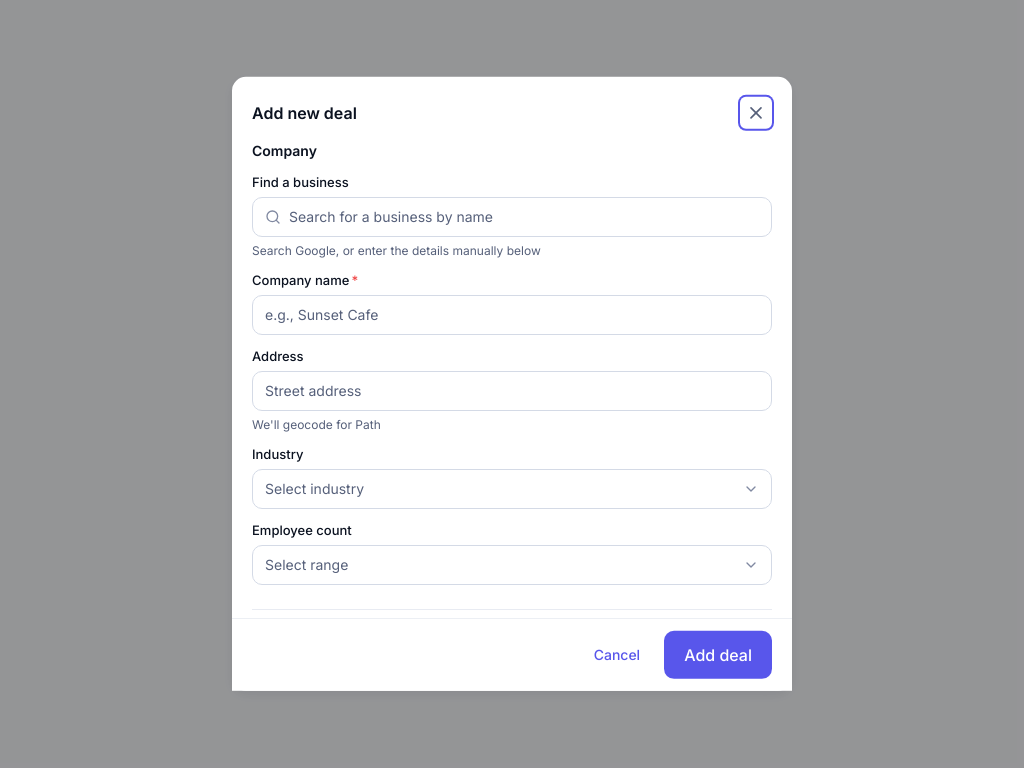
Test case: AddDealSheet: prospect capture (contact fields optional, lead source still required) › still rejects a partially-typed phone (must be 10 digits when provided)
This screenshot has width=1024, height=768.
Type "Sunset Cafe" into the field with id "companyName".
click(512, 315); type("Sunset Cafe")  # box [265,305,759,325]
(page scrolled)
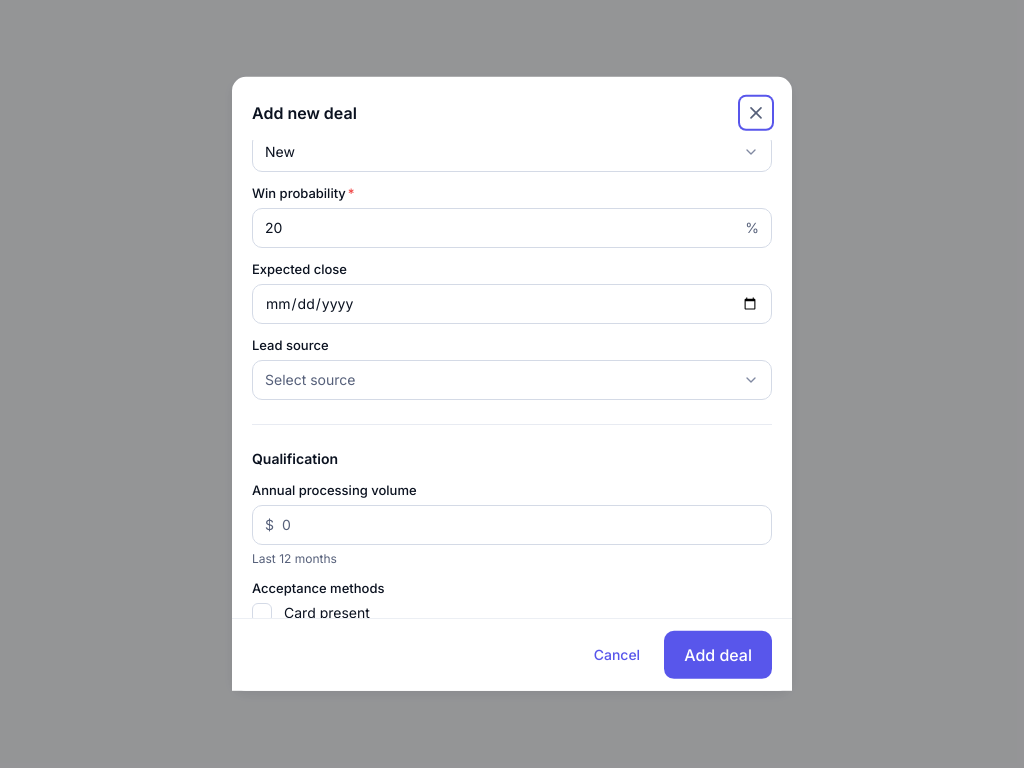
Pick a lead source so the only remaining error isolates the phone.
Click the dropdown with id "leadSource".
click(310, 379)  # box [252,360,772,400]
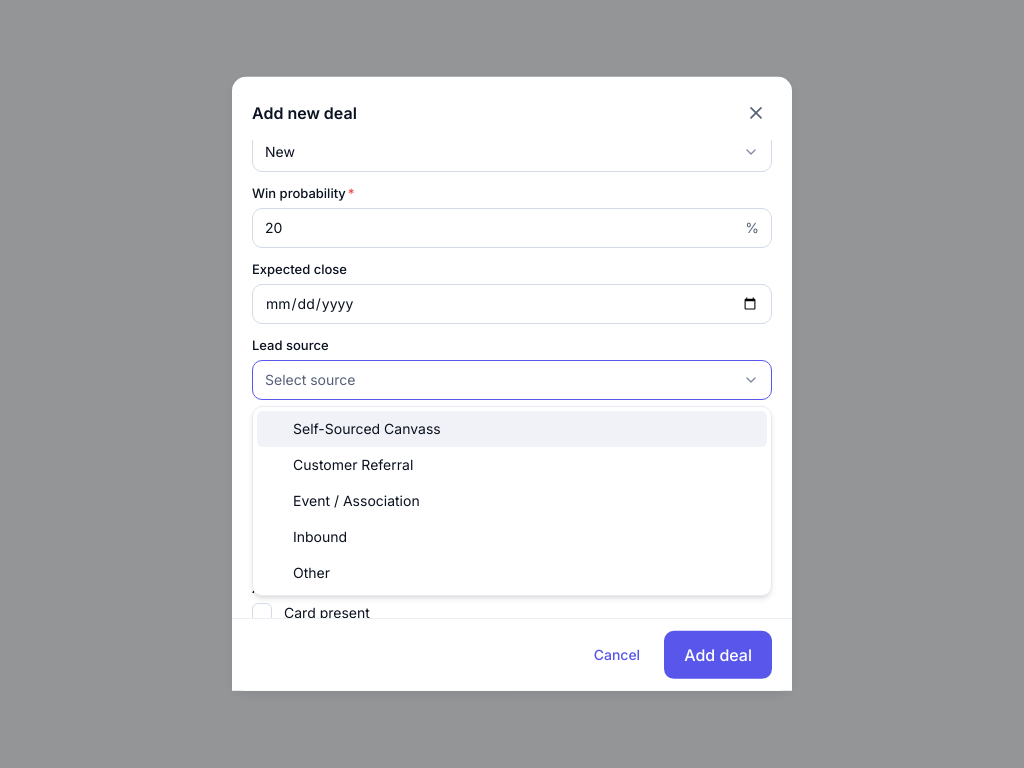
Click the option "Inbound".
click(320, 536)  # box [293,528,347,545]
(page scrolled)
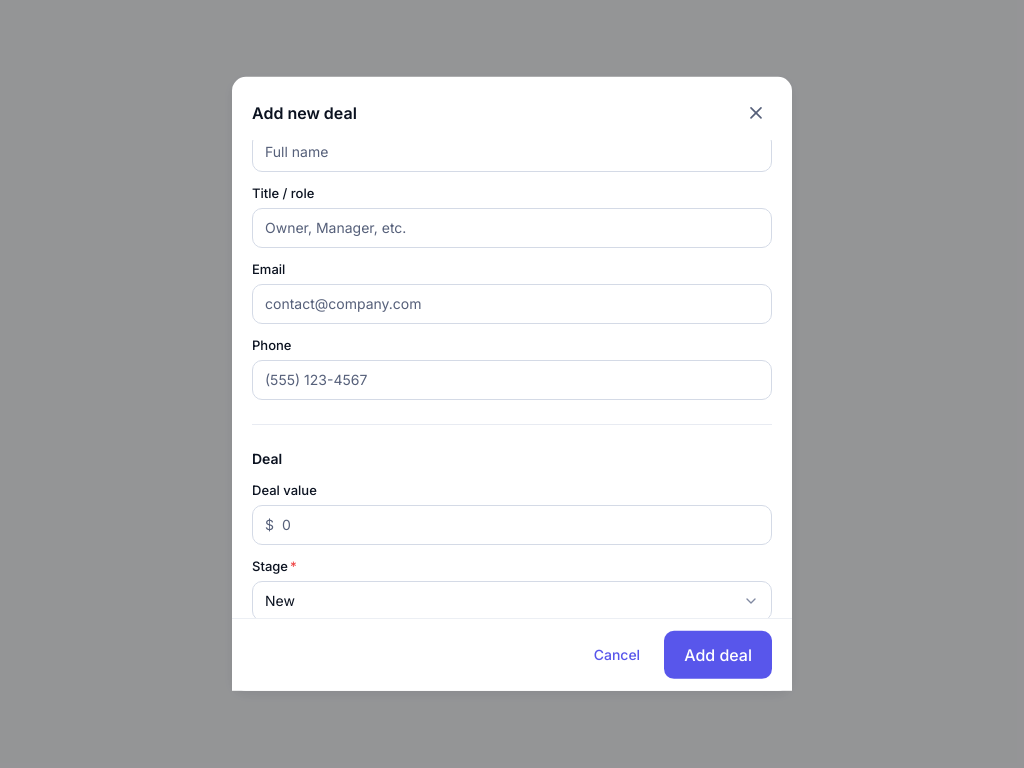
Type "310555" into the field with id "contactPhone".
click(512, 380); type("310555")  # box [265,370,759,390]
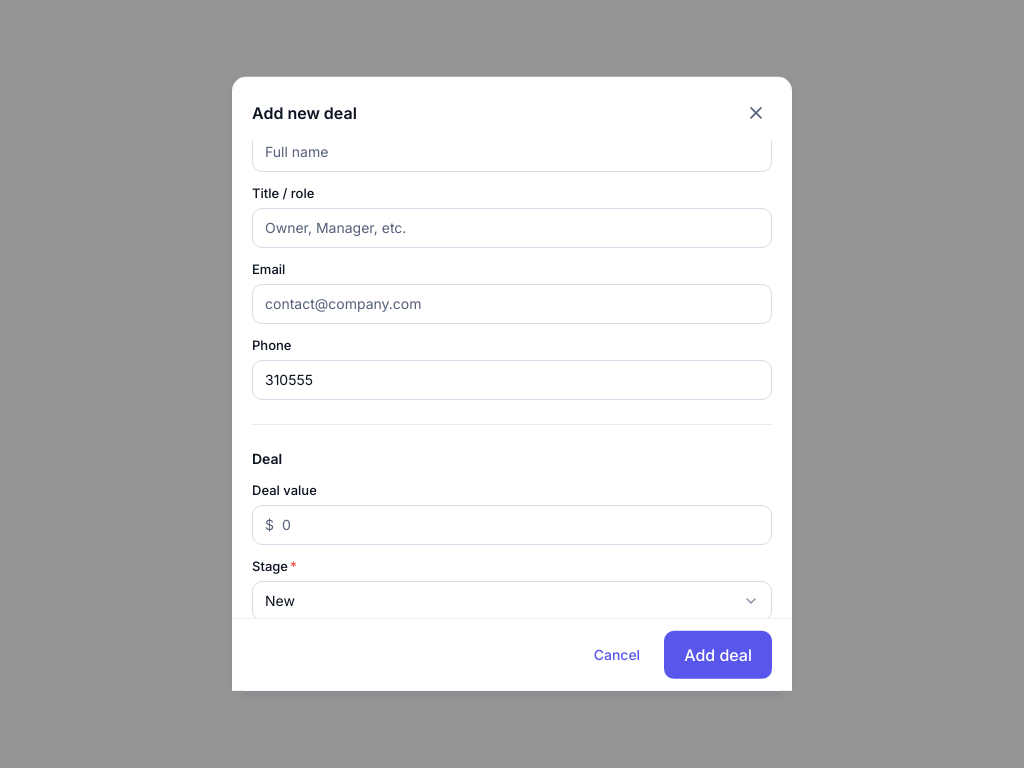
Click the button "Add deal".
click(718, 655)  # box [664,631,772,679]
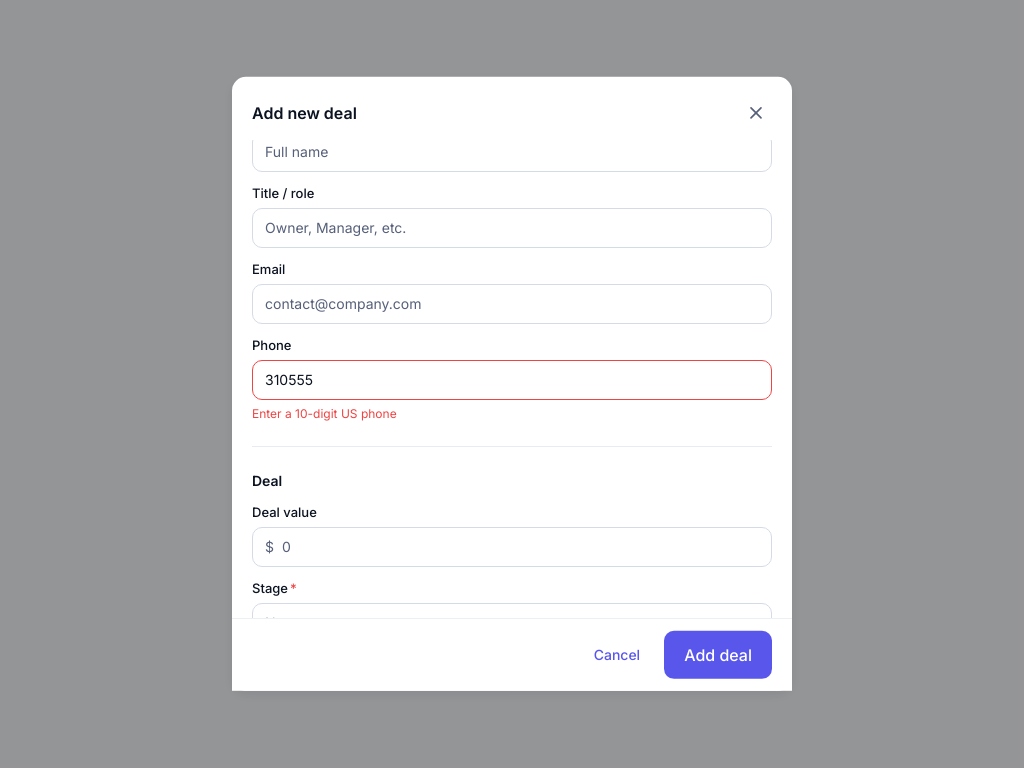
Now the text "Enter a 10-digit US phone" is shown, box [252,406,397,421]
